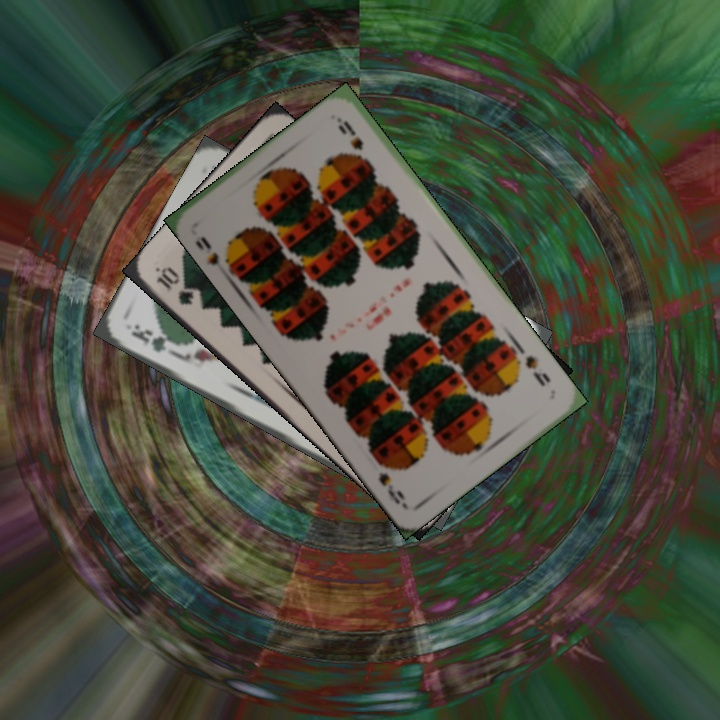G10: (152, 263, 197, 308)
GK: (126, 320, 181, 355)
S9: (191, 232, 237, 275), (521, 351, 554, 389)
